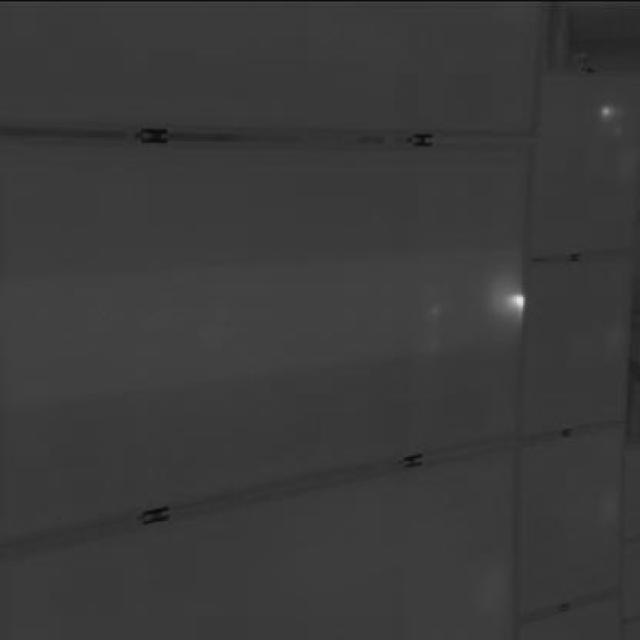hotspot: (500, 281, 531, 316)
